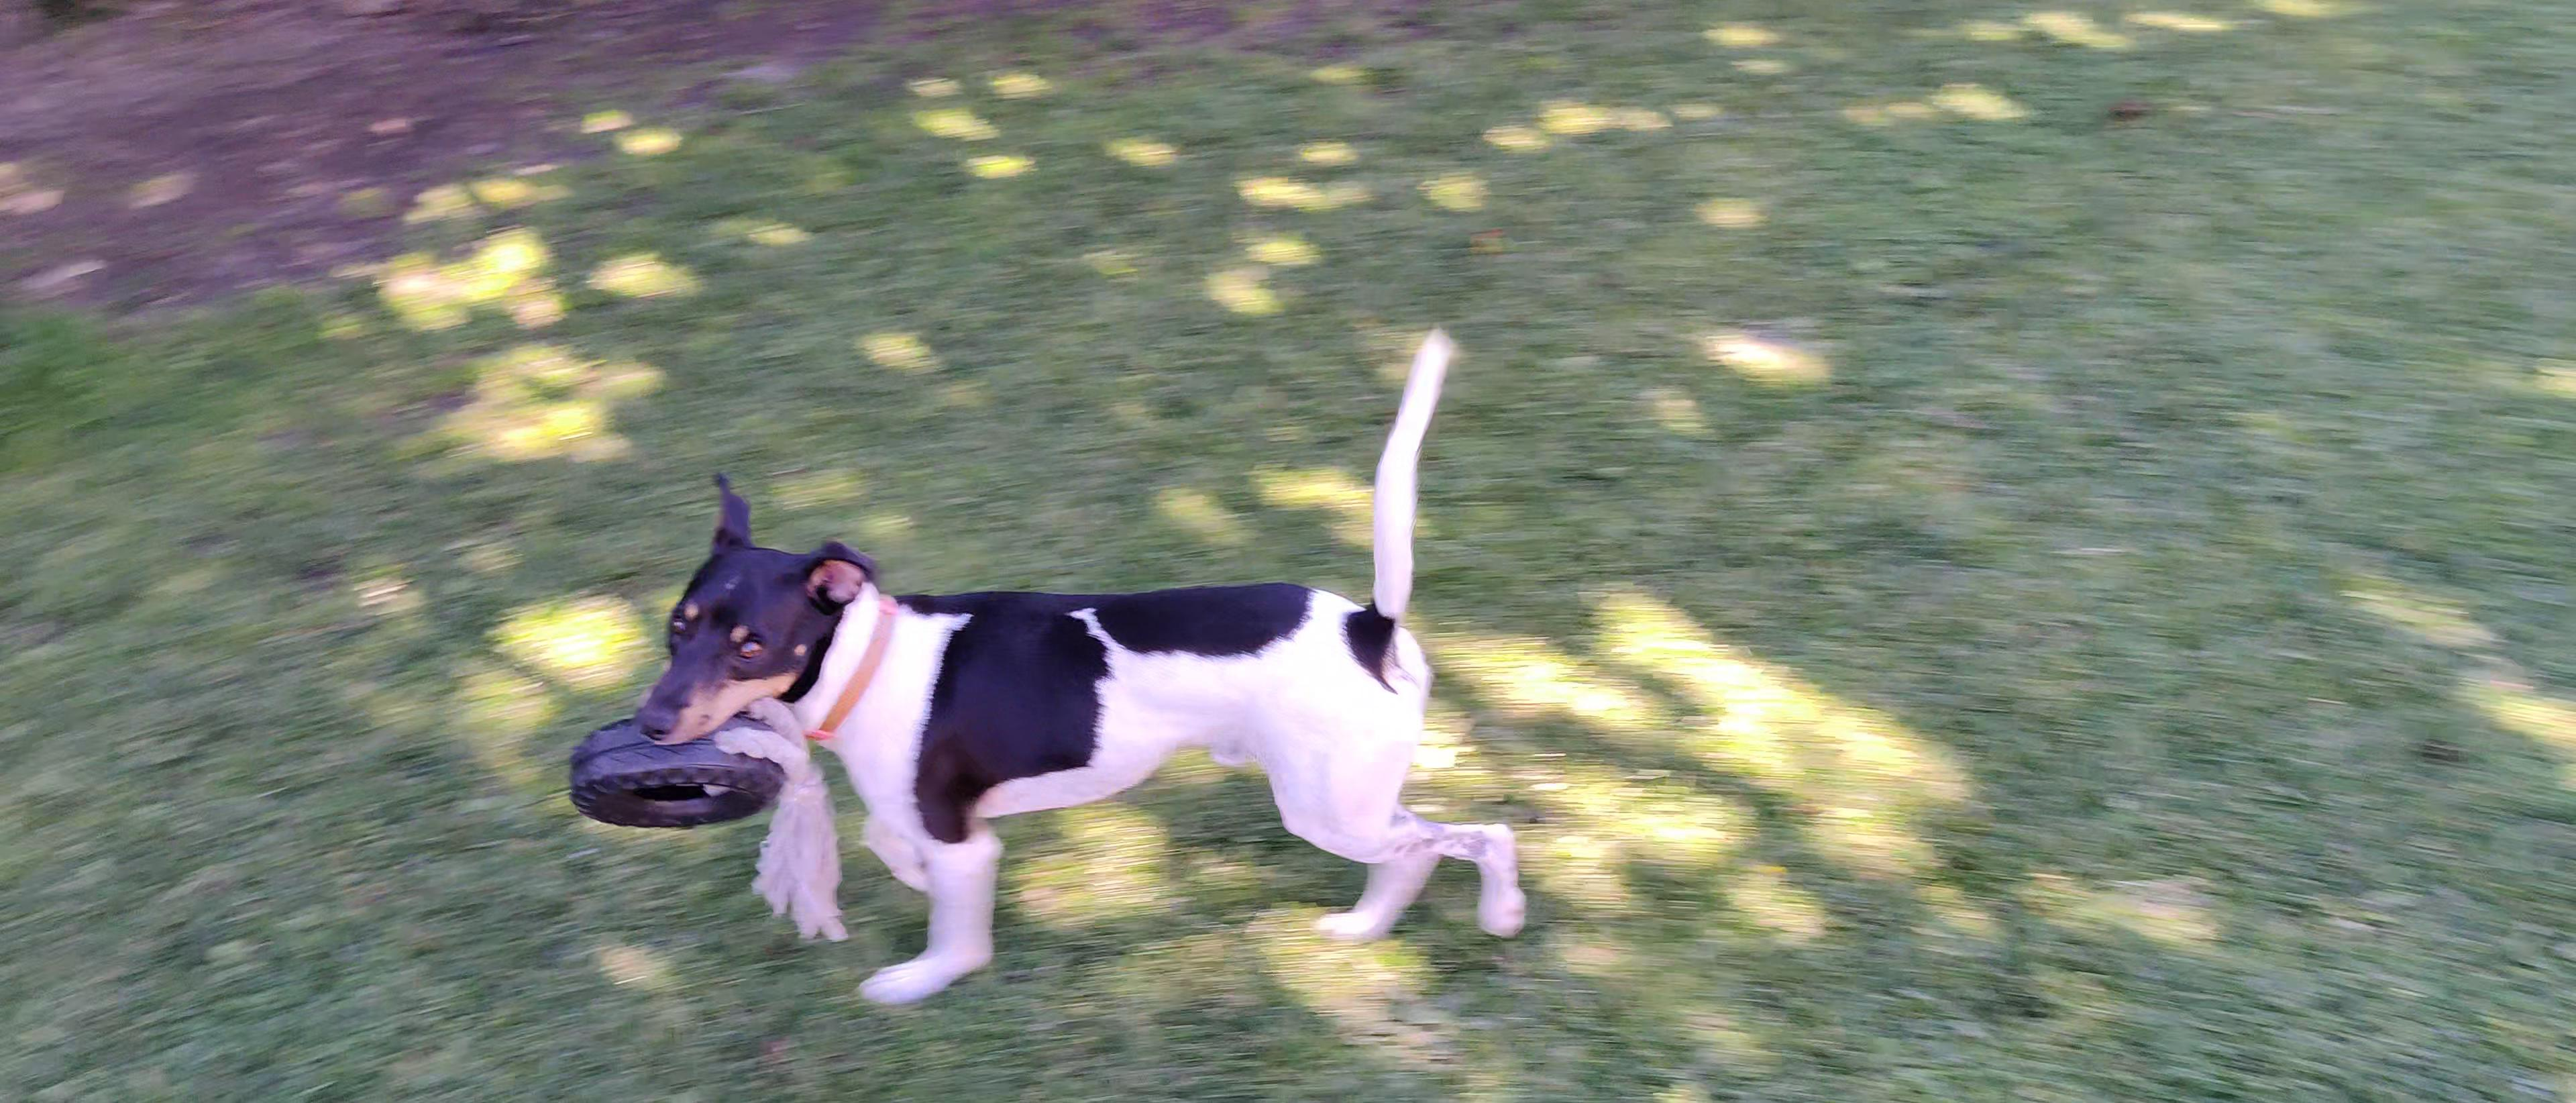Dog: (619, 278, 1554, 1024)
